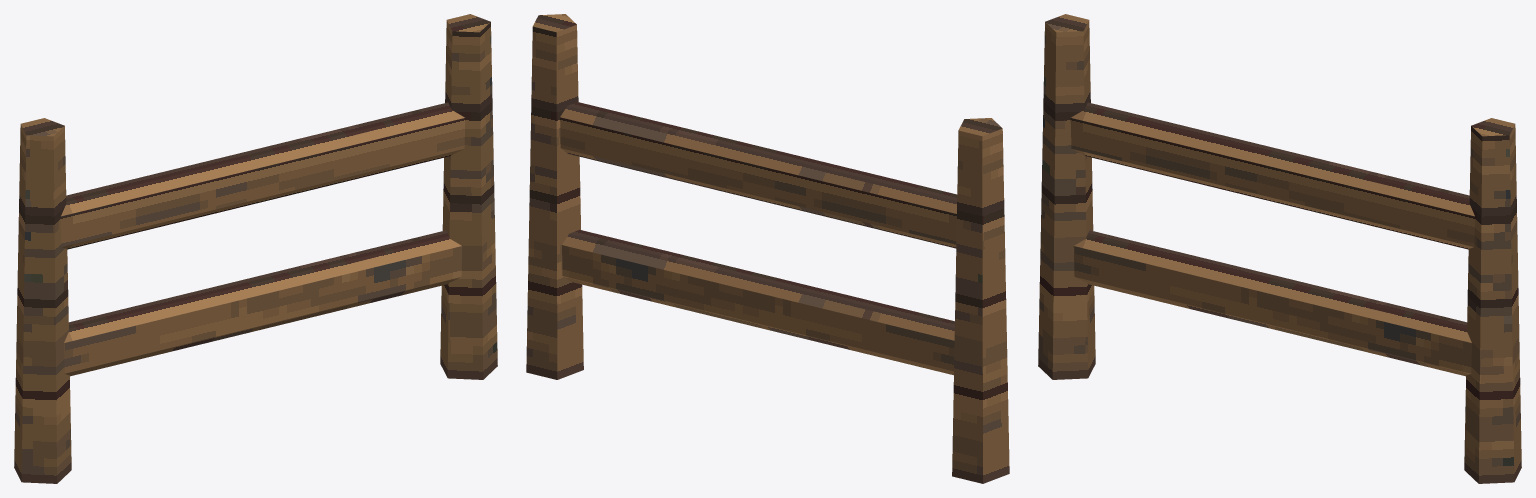
The model's file is enfeite_cerca.fbx.
The picture shows the model from 3 angles, left to right: view 1: azimuth 30°, elevation 25°; view 2: azimuth 150°, elevation 25°; view 3: azimuth 330°, elevation 25°; orthographic projection.
Parts seen in each view (by area): view 1: pedreira_enfeite_cerca; view 2: pedreira_enfeite_cerca; view 3: pedreira_enfeite_cerca.
Boxes of the visible parts, x1,y1,x2,y2 form: pedreira_enfeite_cerca: (14,14,497,483); pedreira_enfeite_cerca: (526,14,1009,483); pedreira_enfeite_cerca: (1038,14,1521,483).
Bounding box in the file's own units: 93.89 × 65 × 9.41.
Materials: 1 (1 with a texture image).
